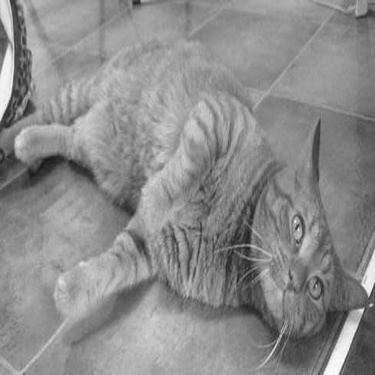cat: (1, 40, 366, 366)
